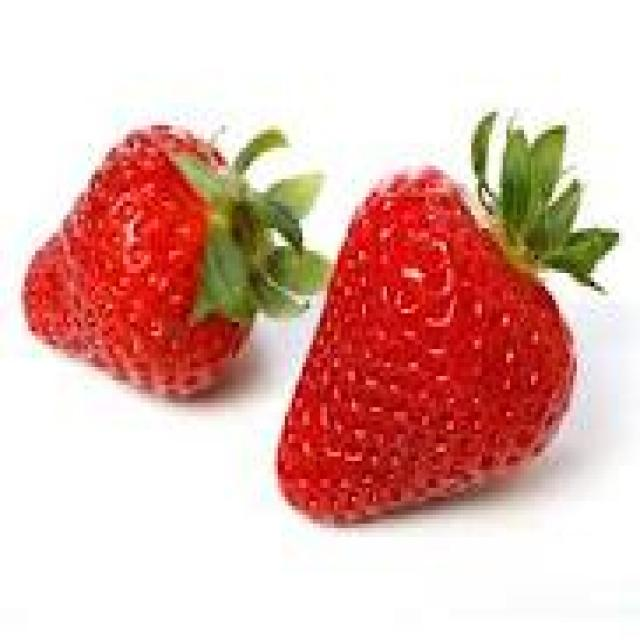srawberry: (7, 63, 626, 519)
